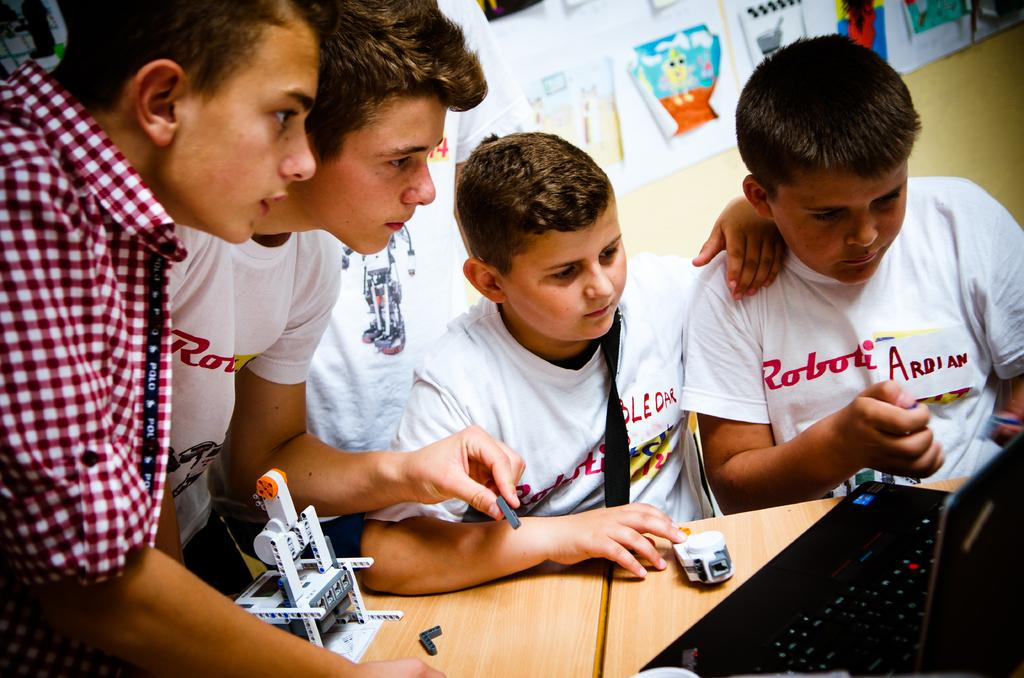Laptop: (631, 455, 972, 661)
